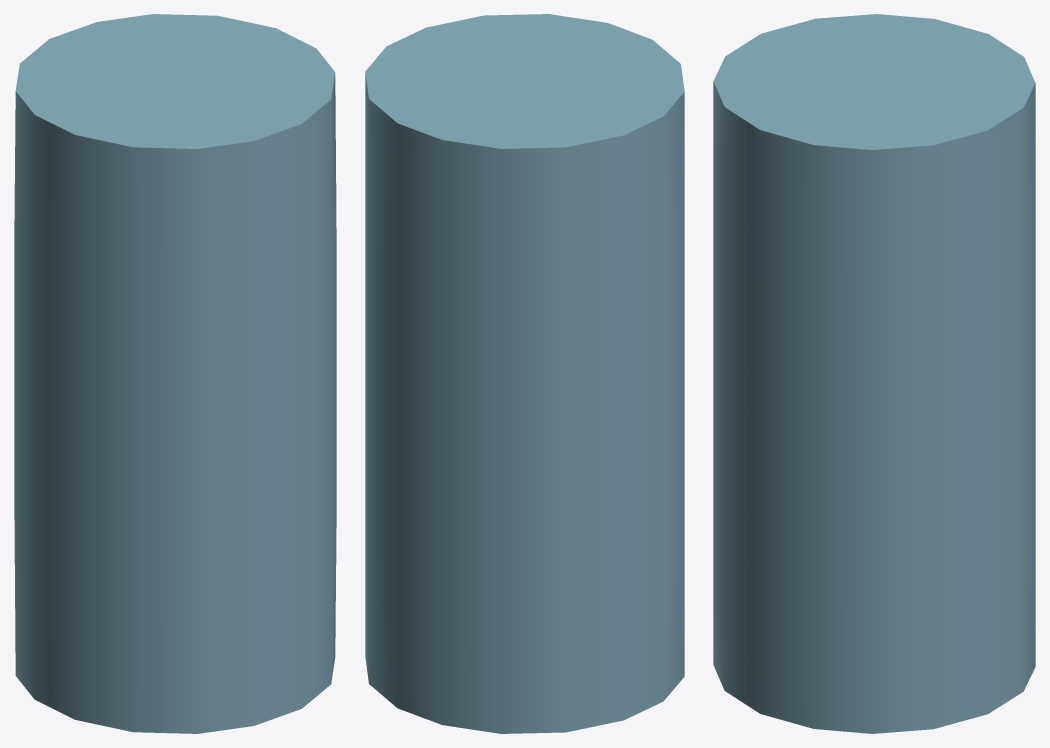
The model's file is Cap.obj.
3 views of the same model, side by side, from view 1: azimuth 30°, elevation 25°; view 2: azimuth 150°, elevation 25°; view 3: azimuth 270°, elevation 25° (orthographic).
Size of the model in its own units: 0.4999 by 1 by 0.4999.
